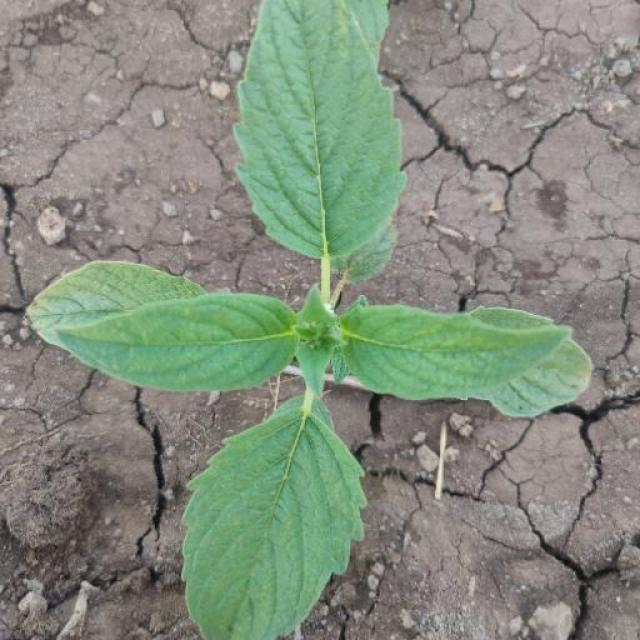crop: (8, 2, 600, 640)
